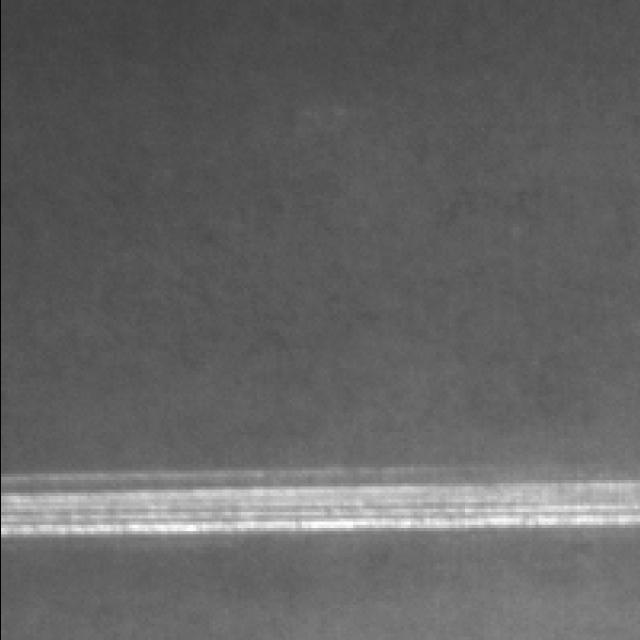scratches: (0, 481, 637, 536)
